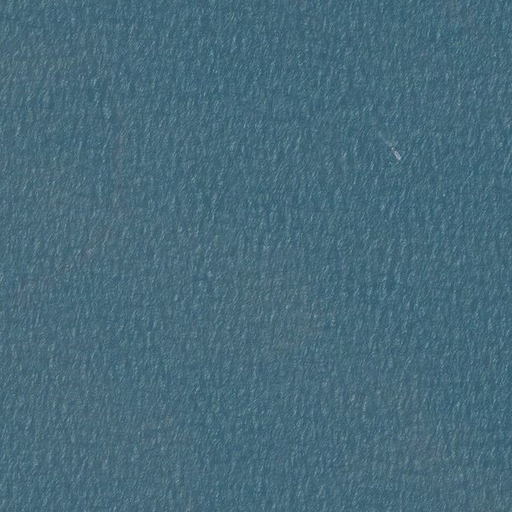ship: (386, 143, 405, 164)
